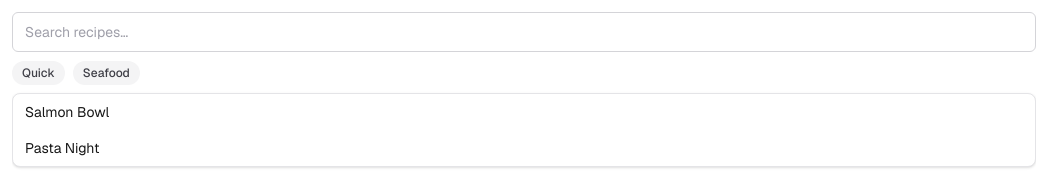
Test case: RecipePicker › searches after debounce (one query, not per keystroke)
Type "salmon" into the field with test id "recipe-picker-search".
click(524, 32); type("salmon")  # box [12,12,1036,52]
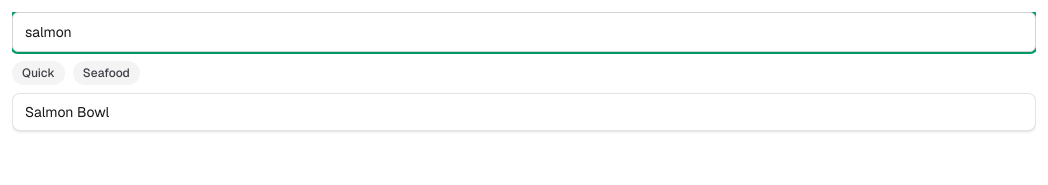
Expected: the button with test id "recipe-picker-result" reads "Salmon Bowl", [13,94,1035,130]
Expected: the number of buttons with test id "recipe-picker-result" is 1, [13,94,1035,130]
